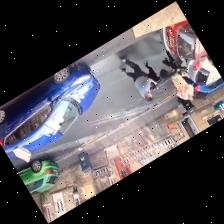person: (120, 58, 155, 101), (171, 76, 192, 100), (143, 60, 159, 81)
